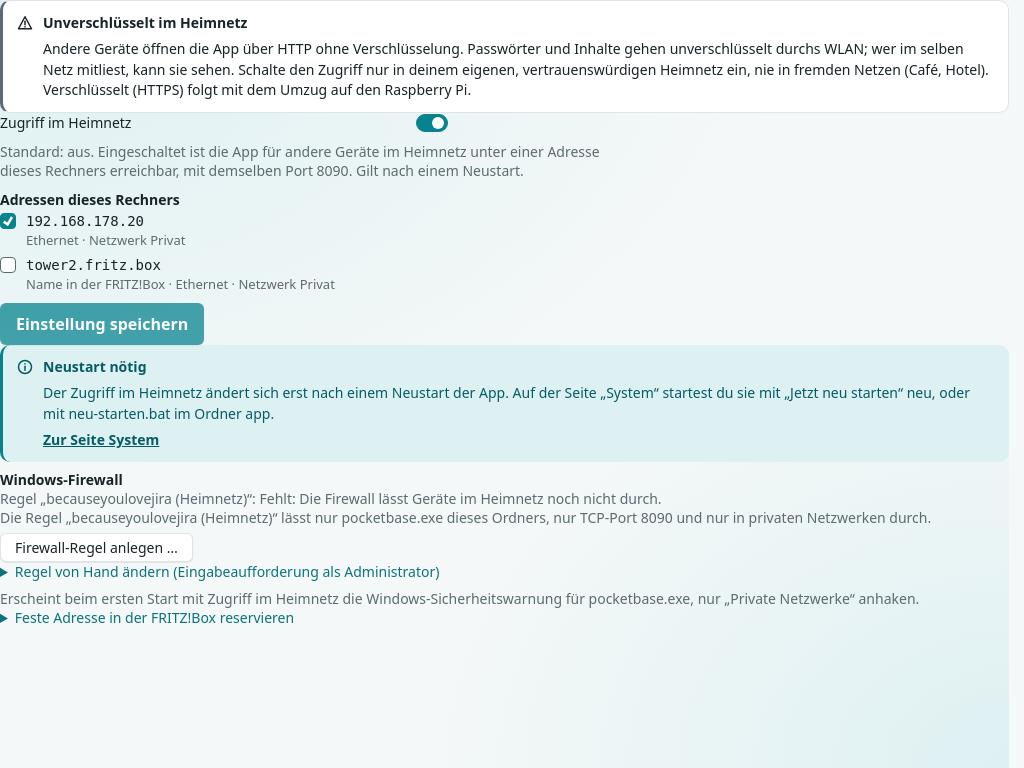
access in the home network › shows a declined change with what to do by hand, and the commands to copy
This screenshot has width=1024, height=768.
Click the button "Firewall-Regel anlegen …": [96, 548] box [0,533,193,562]
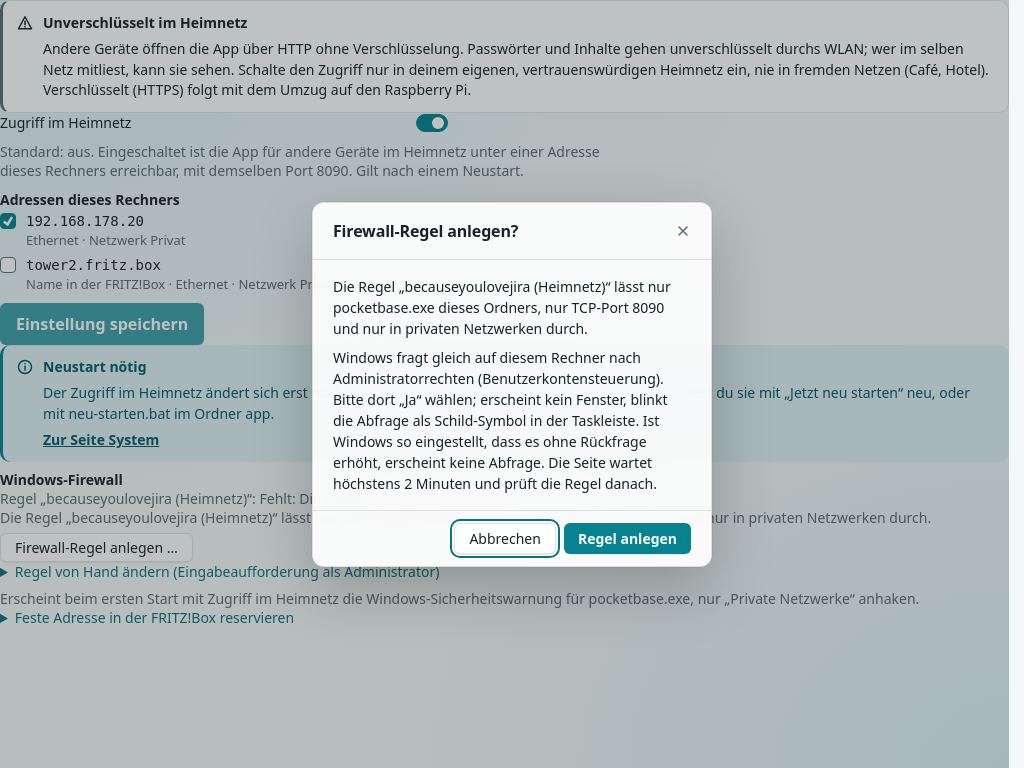
Click the button "Regel anlegen": [627, 538] box [564,522,691,554]
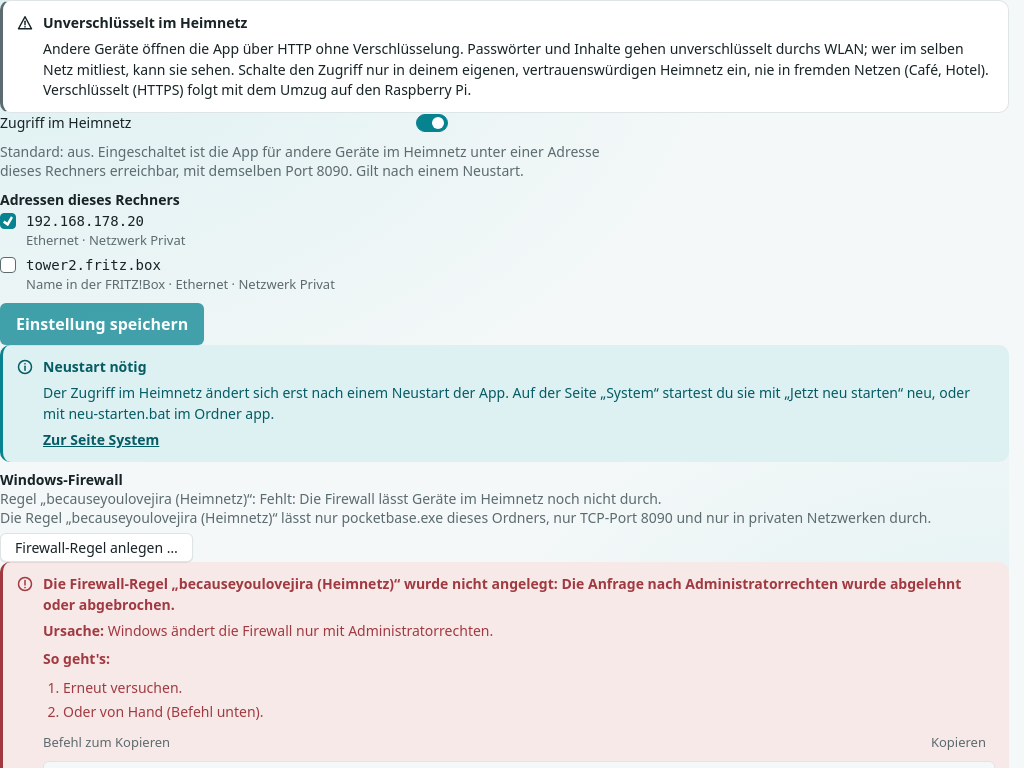
Check: the heading named "wurde nicht angelegt: Die Anfrage nach Administratorrechten wurde abgelehnt" is shown, box [43,574,995,615]
